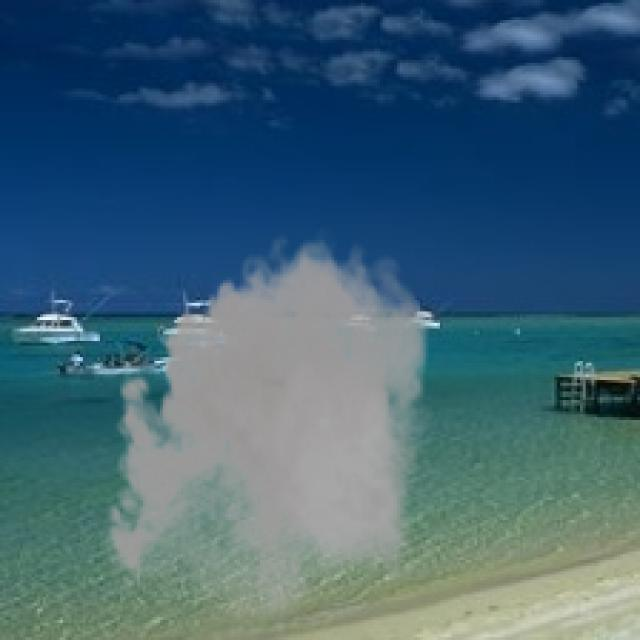smoke: (97, 226, 443, 637)
